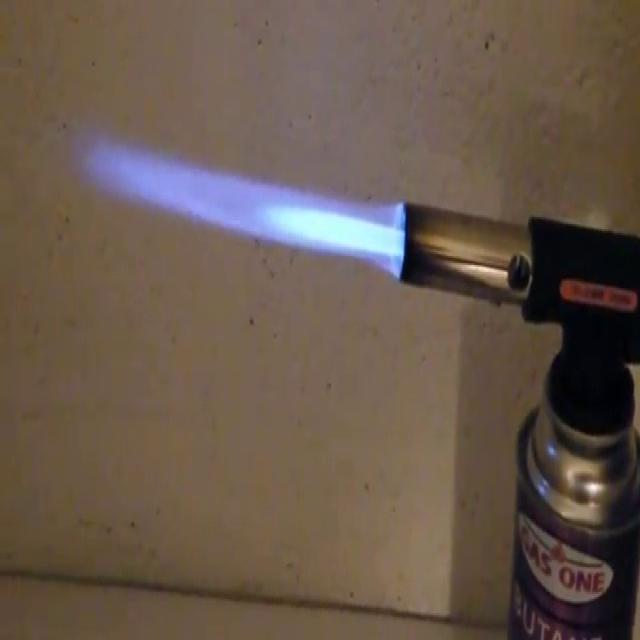fire: (81, 120, 404, 332)
